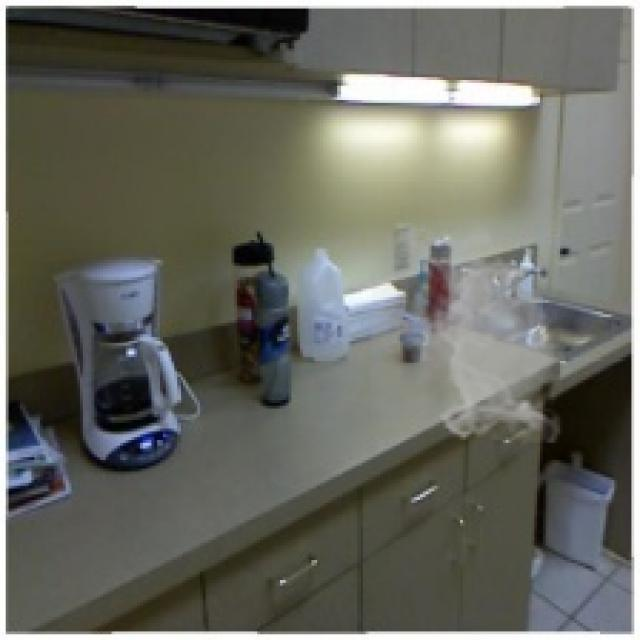Smoke: (372, 217, 572, 443)
